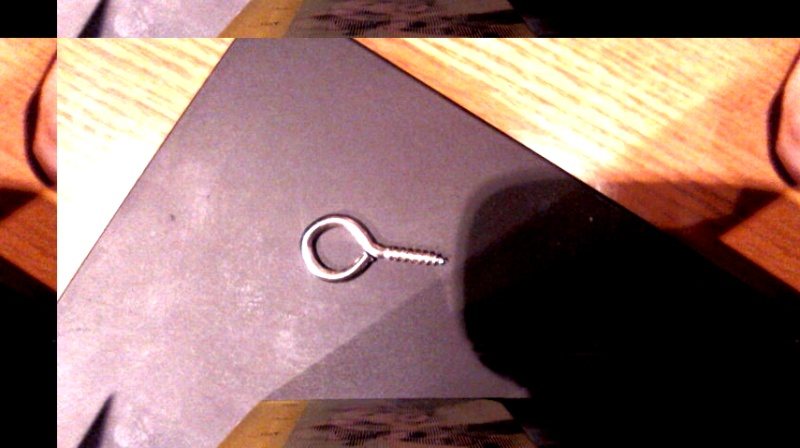O001: (297, 208, 449, 288)
